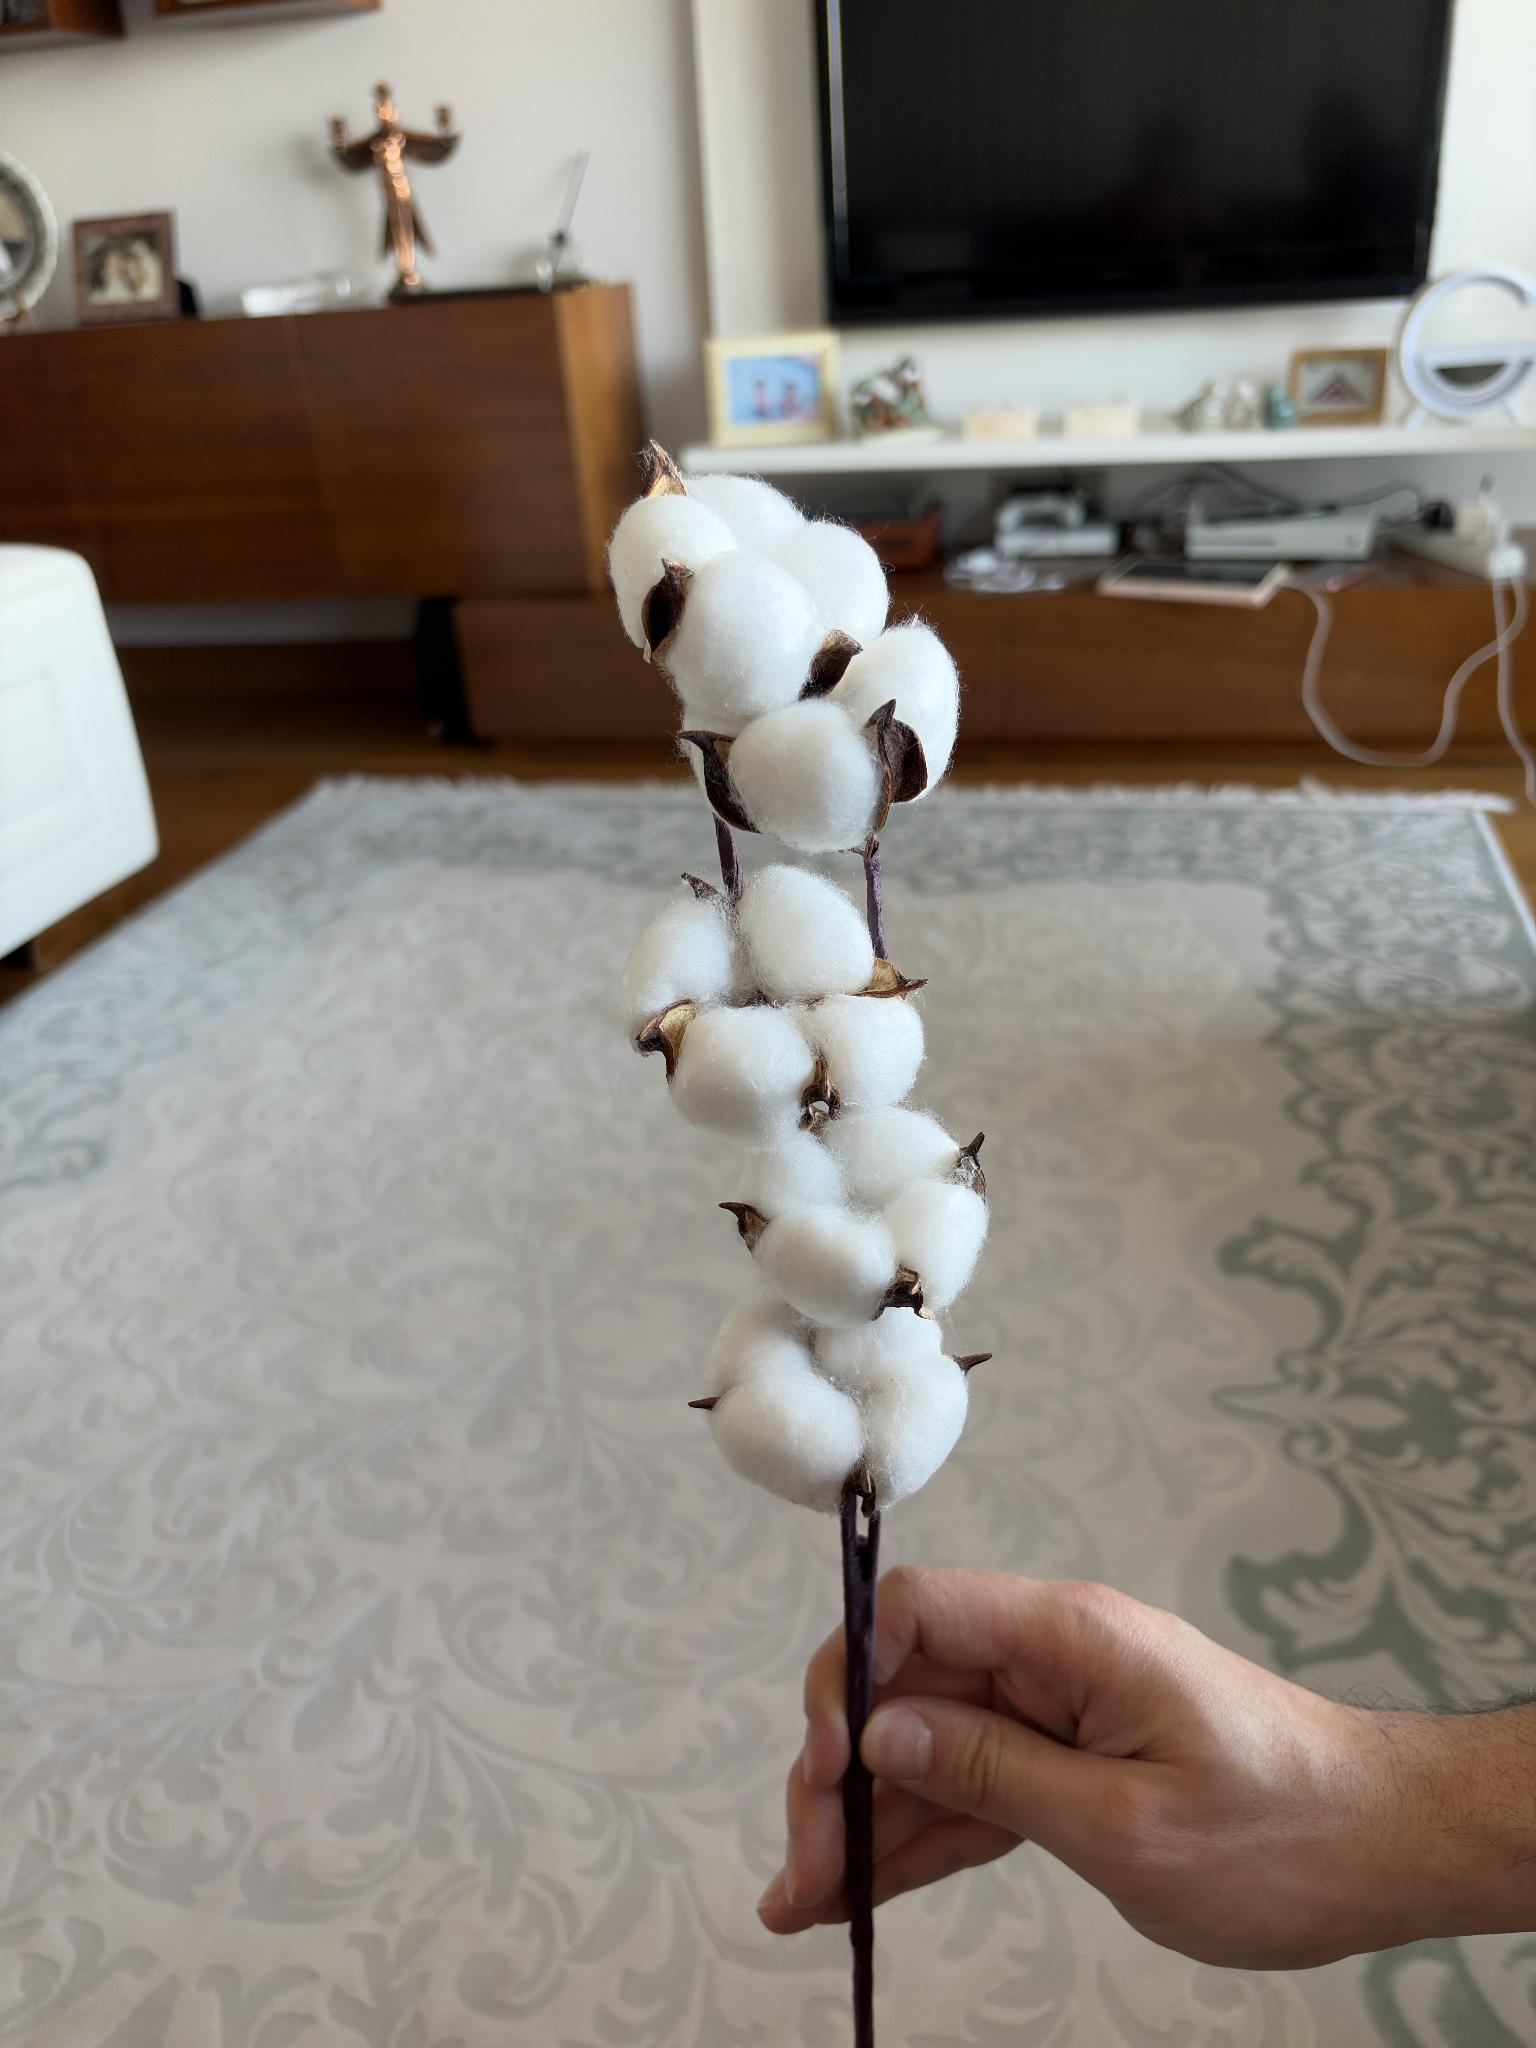cotton_boll: (663, 548, 831, 734), (728, 698, 884, 853), (715, 1367, 860, 1511), (829, 624, 958, 784), (671, 1006, 815, 1148), (752, 1205, 915, 1327), (608, 493, 737, 645), (620, 885, 747, 1039), (737, 864, 873, 1001), (858, 1356, 966, 1508), (768, 521, 889, 643), (802, 993, 925, 1113), (823, 1106, 958, 1209), (883, 1180, 987, 1313), (707, 1297, 821, 1397), (815, 1308, 945, 1388), (737, 1132, 847, 1221), (684, 474, 805, 553), (800, 1166, 802, 1168)
cotton_boll-cluster: (603, 471, 966, 868), (615, 856, 928, 1151), (695, 1277, 973, 1526), (726, 1097, 986, 1332)
